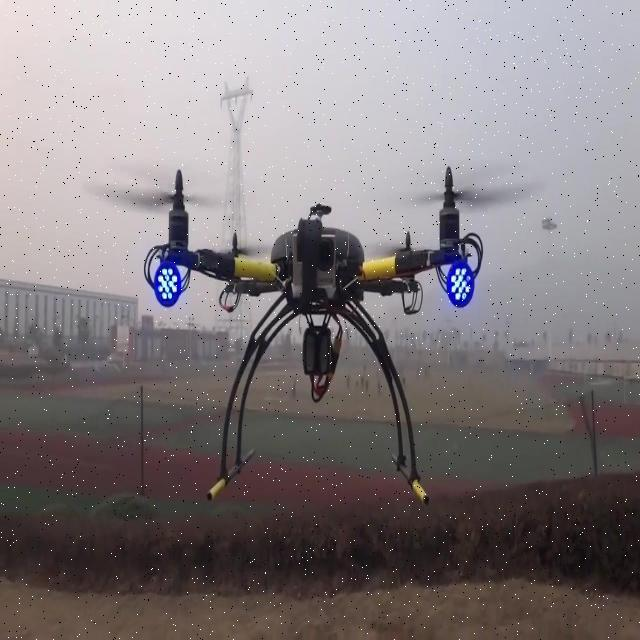UAV: (96, 167, 534, 505)
